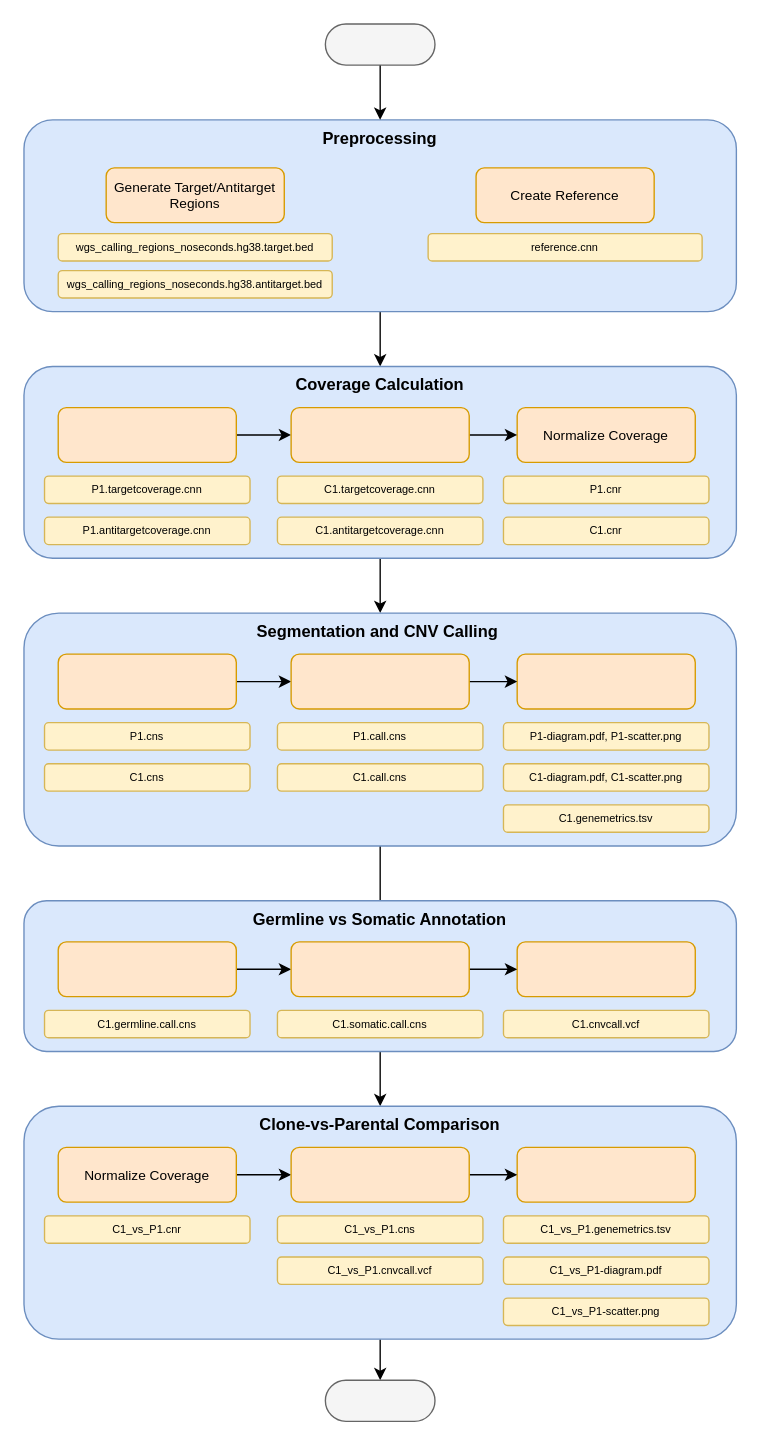
Image size: 760x1445. Some labels were removed from this diagram. Here are the shapes that lost their labels. From the top down, the centre of each, then its label:
At point 379,44: "START".
At point 146,434: "For Parental (P1)".
At point 379,434: "For Clone (C1)".
At point 146,681: "Perform Segmentation".
At point 379,681: "Call CNVs".
At point 605,681: "Output Plots & Metrics".
At point 146,969: "Annotate Germline".
At point 379,969: "Annotate Somatic".
At point 605,969: "Generate VCF".
At point 379,1174: "Segment and Call CNVs".
At point 605,1174: "Generate Metrics & Plots".
At point 379,1400: "END".
